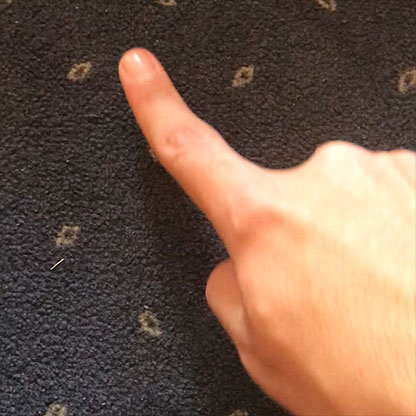fingertip: (114, 46, 178, 95)
